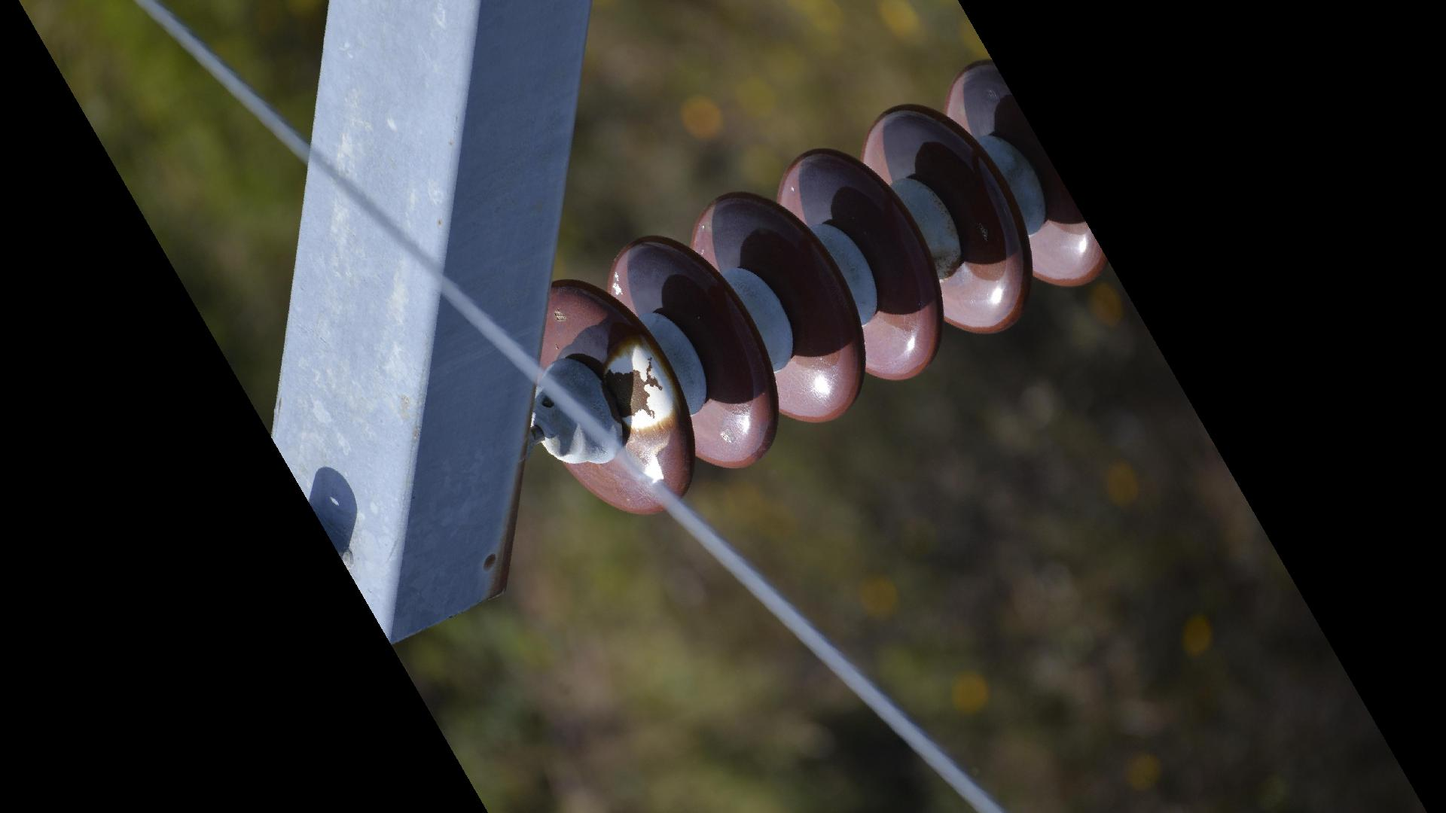insulator: (517, 53, 1113, 524)
insulator_flashover: (597, 328, 689, 436)
